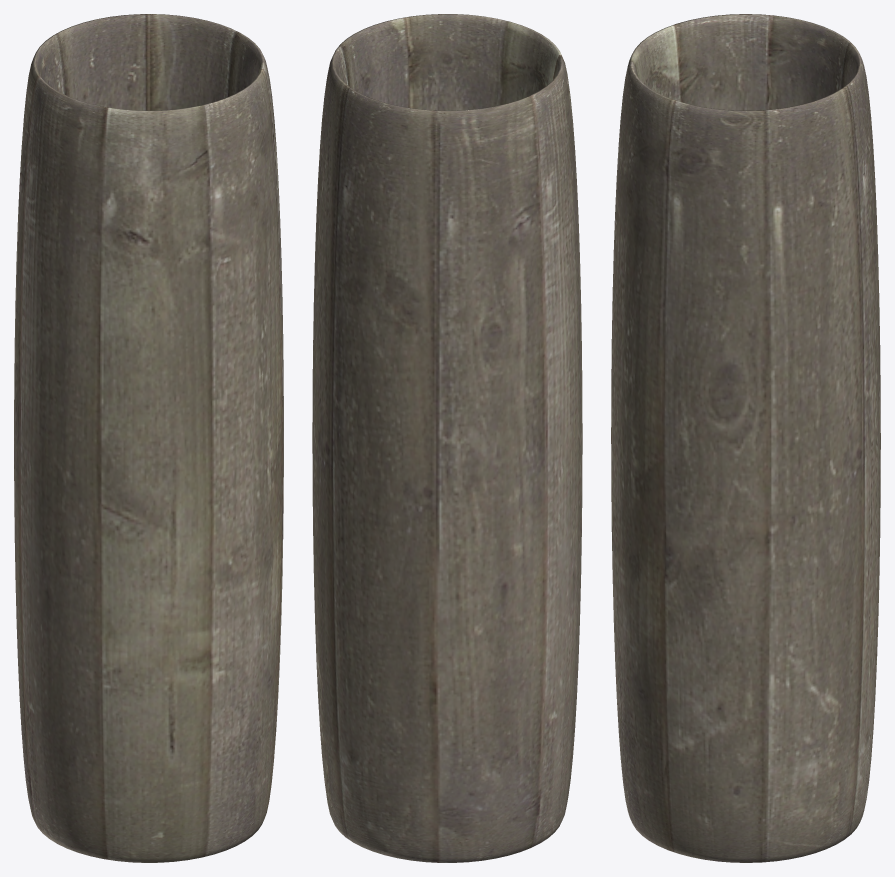
File: cano.fbx
3 views of the same model, side by side, from view 1: azimuth 30°, elevation 25°; view 2: azimuth 150°, elevation 25°; view 3: azimuth 270°, elevation 25° (orthographic).
Parts seen in each view (by area): view 1: pTorus1; view 2: pTorus1; view 3: pTorus1.
Boxes of the visible parts, x1,y1,x2,y2 form: pTorus1: [14, 14, 283, 862]; pTorus1: [312, 14, 582, 862]; pTorus1: [611, 14, 880, 862].
Bounding box in the file's own units: 9.17 × 28.15 × 9.16.
1 material, 1 textured.
